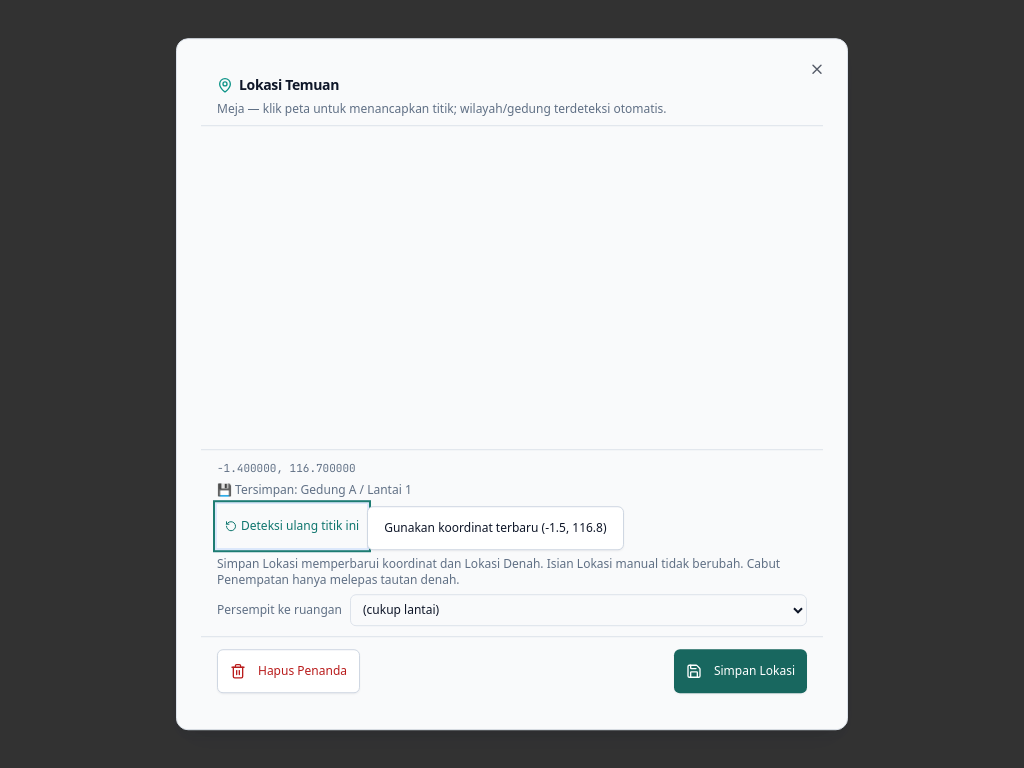
Test: konflik menahan penyimpanan dan tidak memberi keberhasilan palsu
Click the button with test id "lokasi-temuan-simpan". click: point(740, 671)
box: [674,649,807,693]
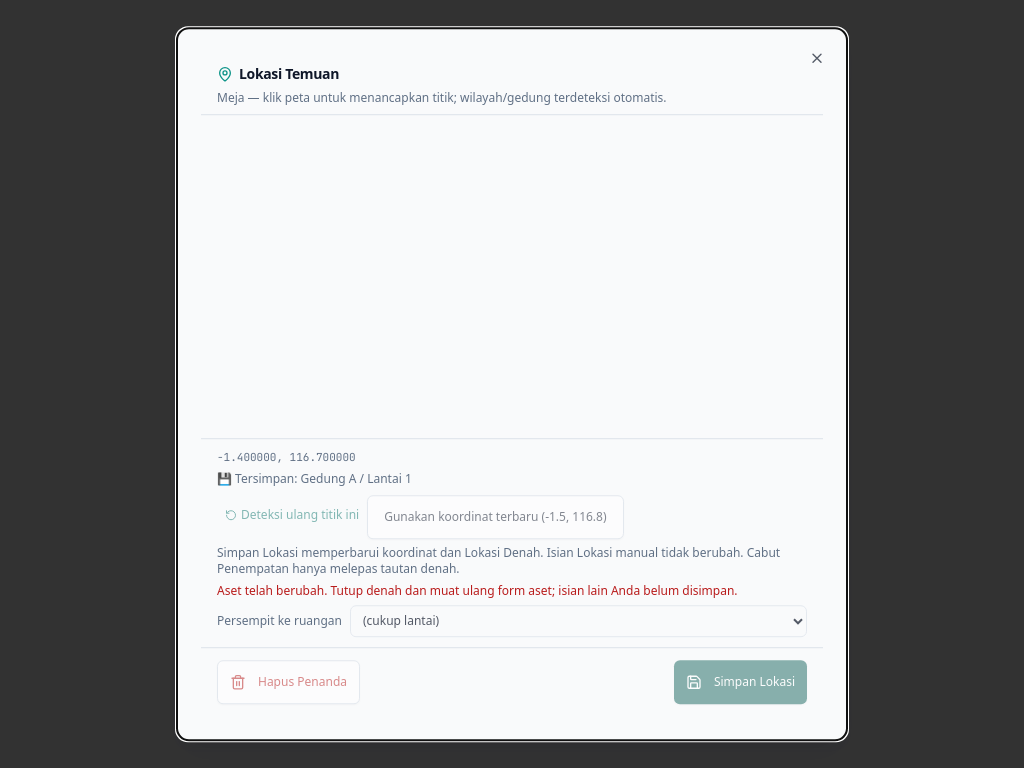
Check: the message is shown, box [217,583,807,599]
Check: the button with test id "lokasi-temuan-simpan" is disabled, box [674,660,807,704]
